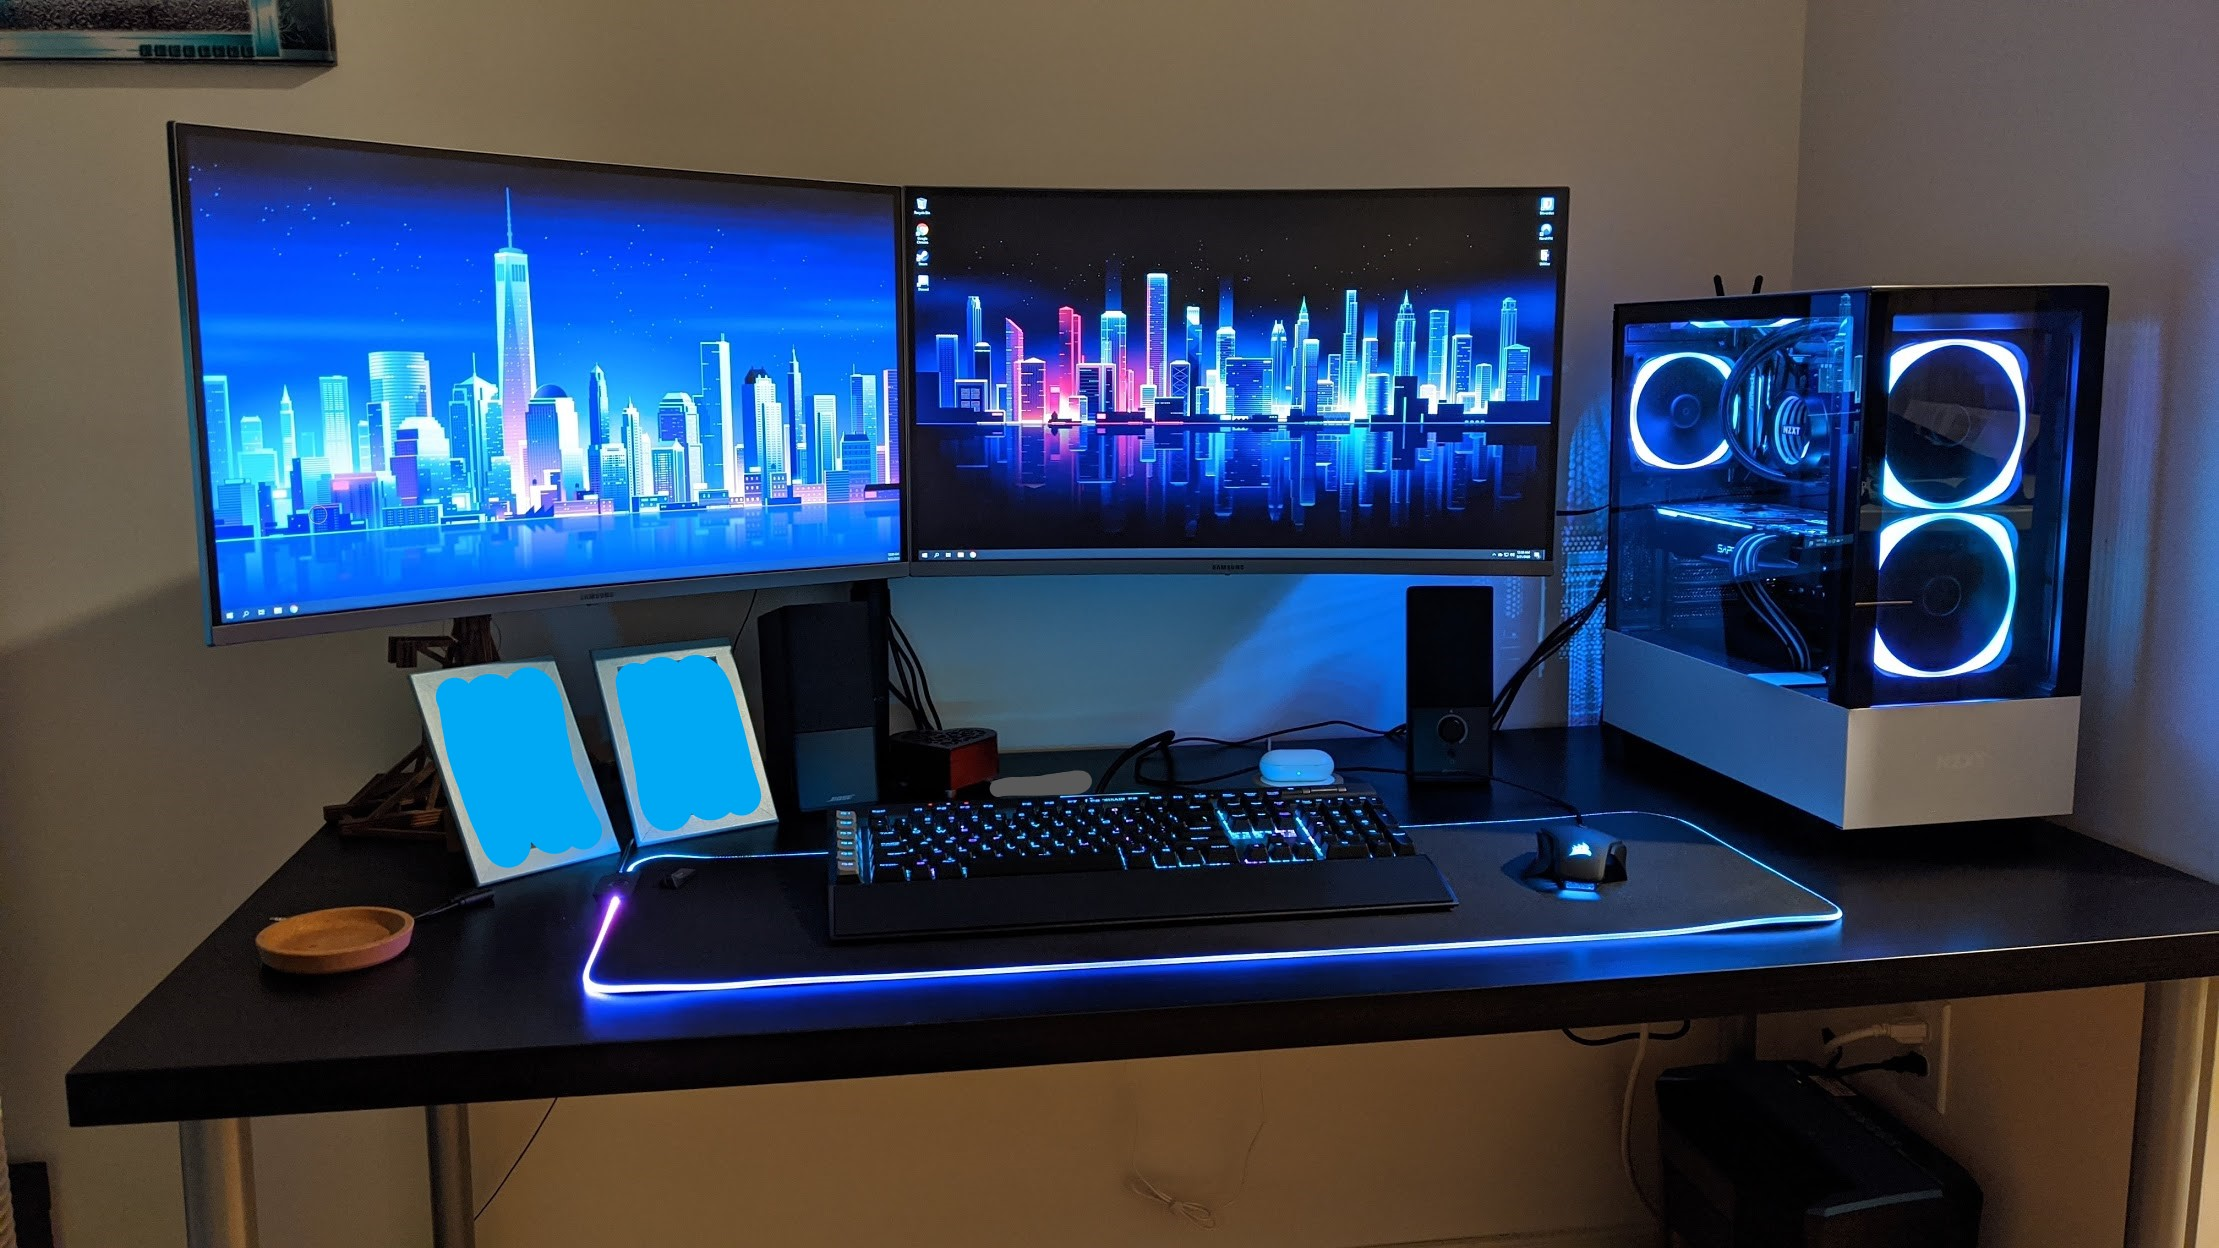Back-UPS: (1622, 1048, 2012, 1248)
Cellphone Charger (Wireless): (1247, 741, 1356, 798)
Decoration (Picture): (395, 637, 808, 878)
Desk (Generic): (69, 670, 2192, 1248)
Desktop (Windows): (1587, 258, 2121, 850)
Drink Coaster: (242, 888, 436, 984)
External Speakers (Generic): (744, 591, 893, 835), (1394, 574, 1512, 826)
Keyboard (Gaming): (809, 786, 1466, 930)
Monitor (Landscape): (149, 105, 904, 661), (895, 149, 1580, 593)
Mouse (Gaming): (1529, 808, 1652, 911)
Mousepad (Gaming): (581, 803, 1846, 995)
